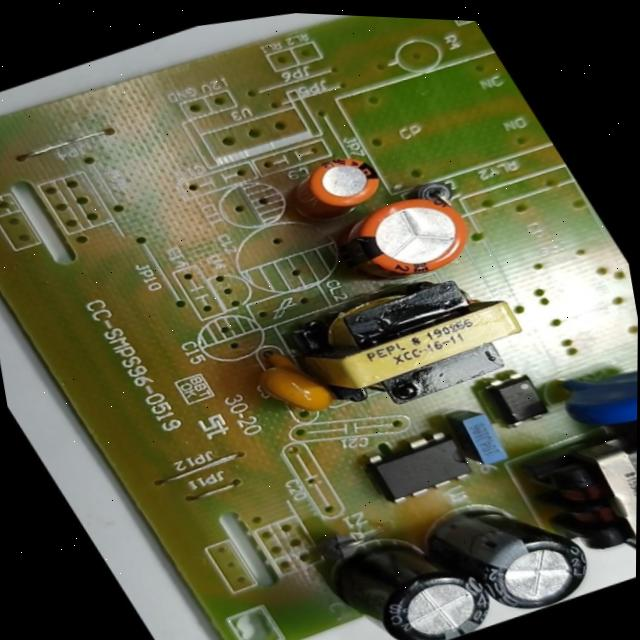Cap1: (311, 159, 517, 310)
Cap2: (248, 127, 401, 240)
Cap3: (392, 465, 619, 640)
Cap4: (297, 481, 523, 640)
MOSFET: (343, 406, 497, 527)
Mov: (536, 336, 638, 458)
Transformer: (237, 231, 566, 455), (495, 404, 637, 590)
